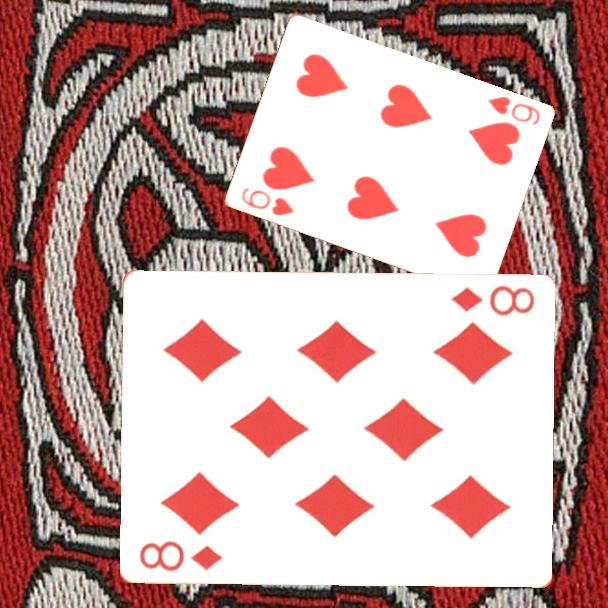d08: (135, 537, 225, 574), (447, 282, 537, 319)
h06: (237, 184, 297, 219), (484, 93, 543, 128)
